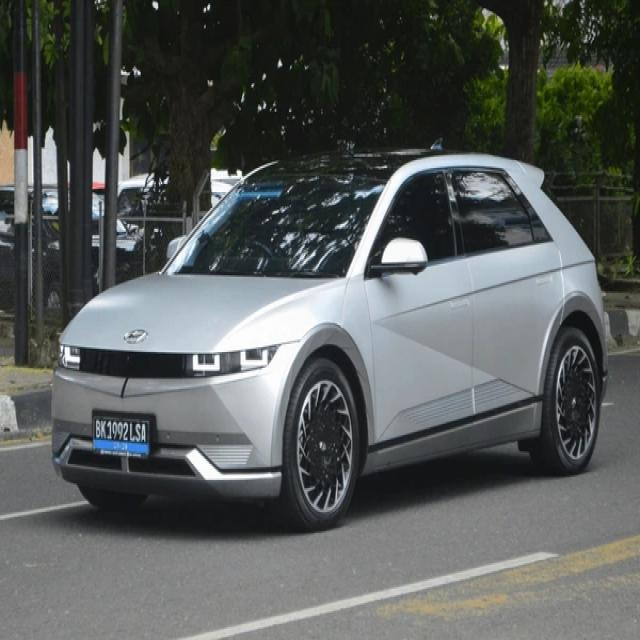hyundai: (123, 324, 148, 350)
